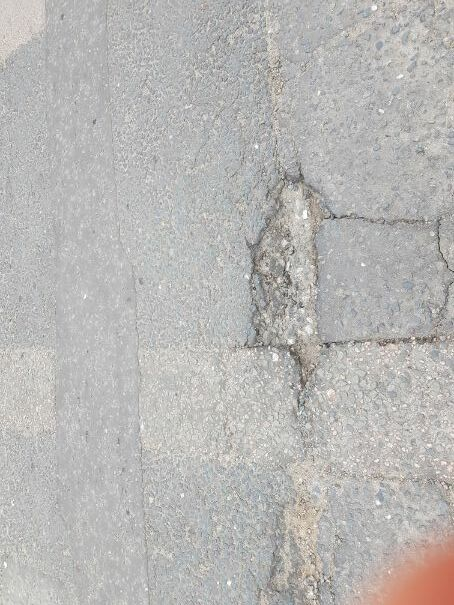pothole: (238, 168, 355, 394)
